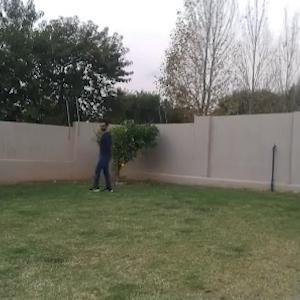follow: (95, 117, 115, 198)
